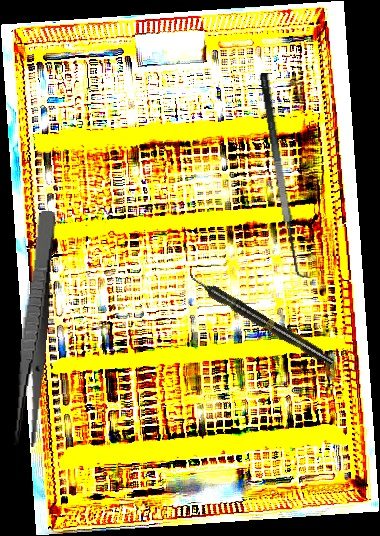Dressing Forceps: (12, 209, 58, 448)
Handpiece: (185, 270, 337, 369)
Spatula Surgical: (258, 70, 315, 281)
